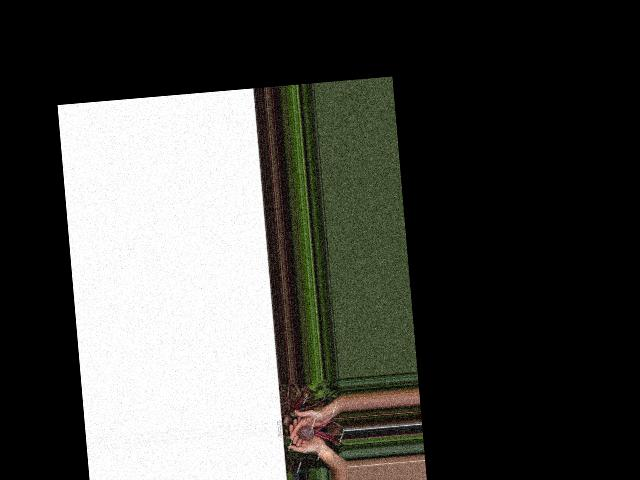beet: (296, 418, 343, 450)
